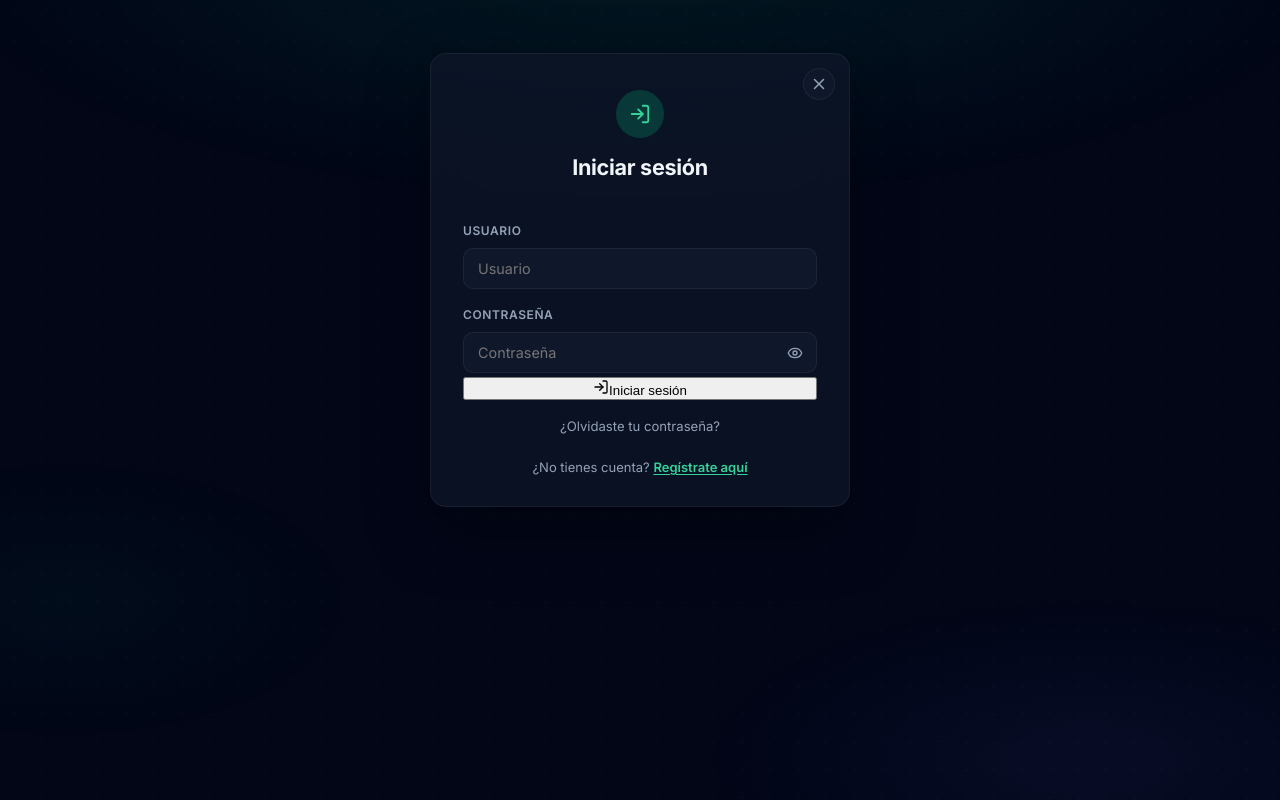
Test: Auth › muestra error cuando el login falla
Type "user" into the field with placeholder "Usuario" at point(640, 268), box [463,248,817,289]
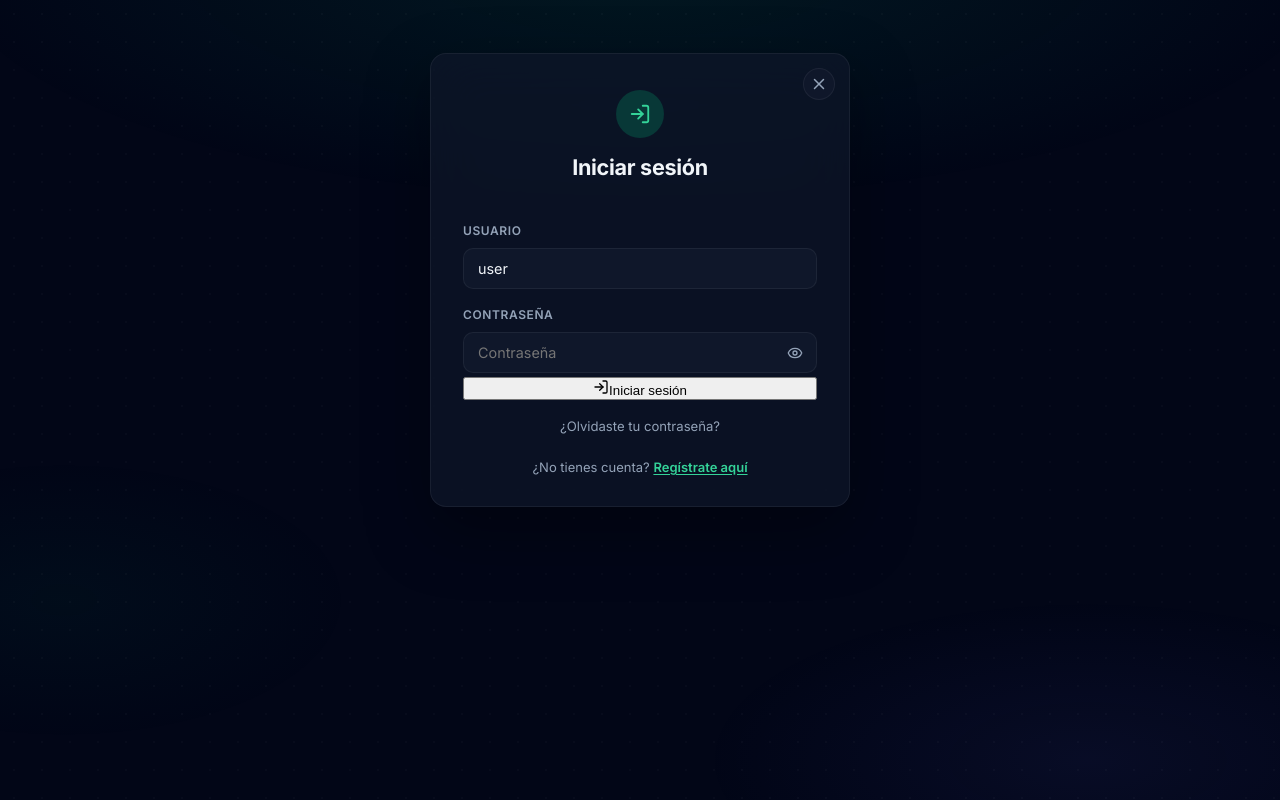
Type "pass" into the password field with placeholder "Contraseña" at point(640, 353), box [463,332,817,373]
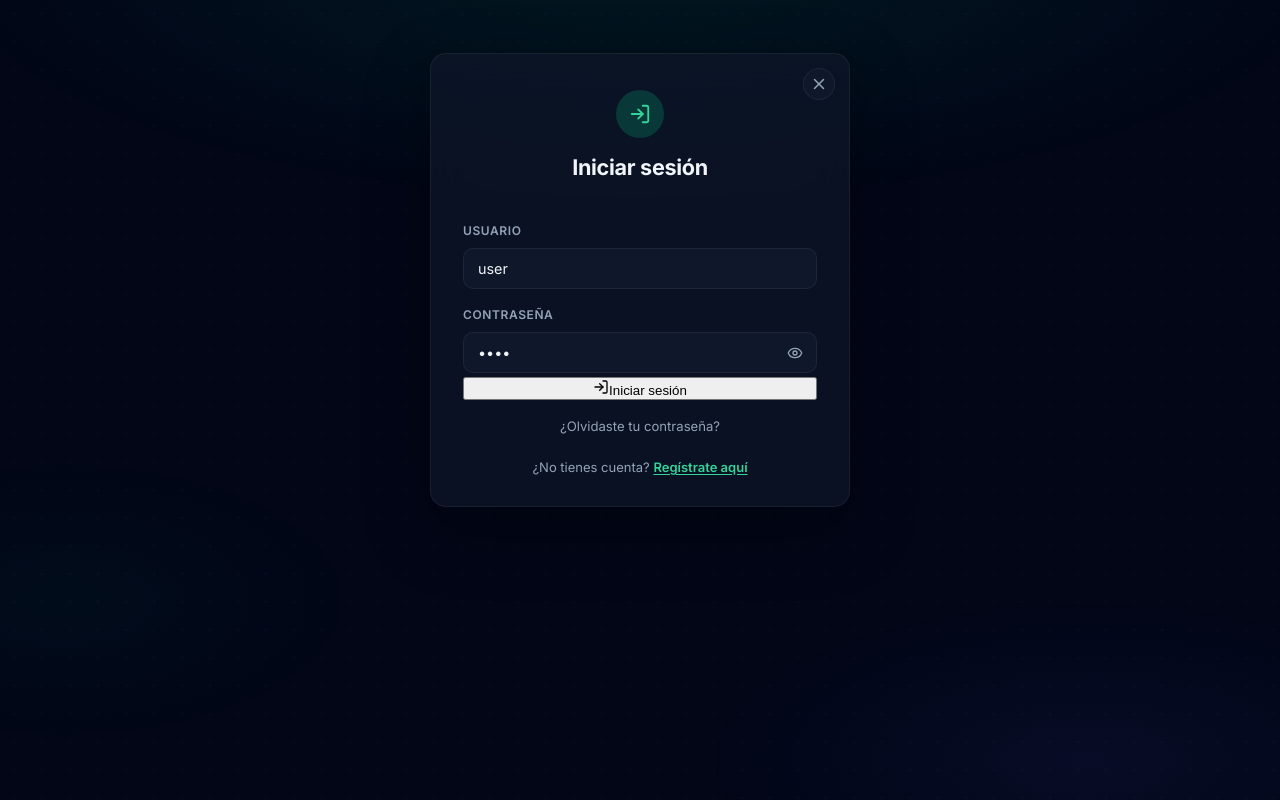
Submit the form from the button "Iniciar sesión", box [463,377,817,400]
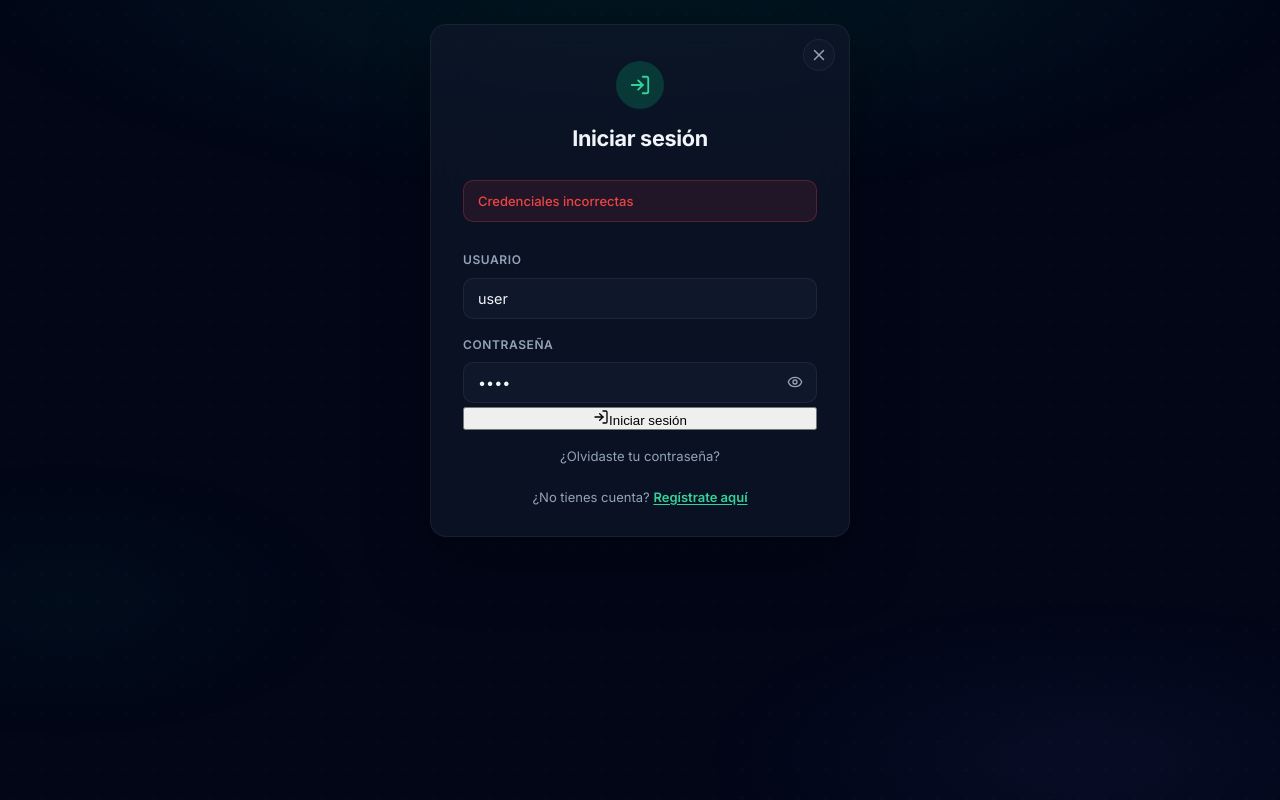
expect the text "Credenciales incorrectas" is shown: met, box [463,180,817,222]
